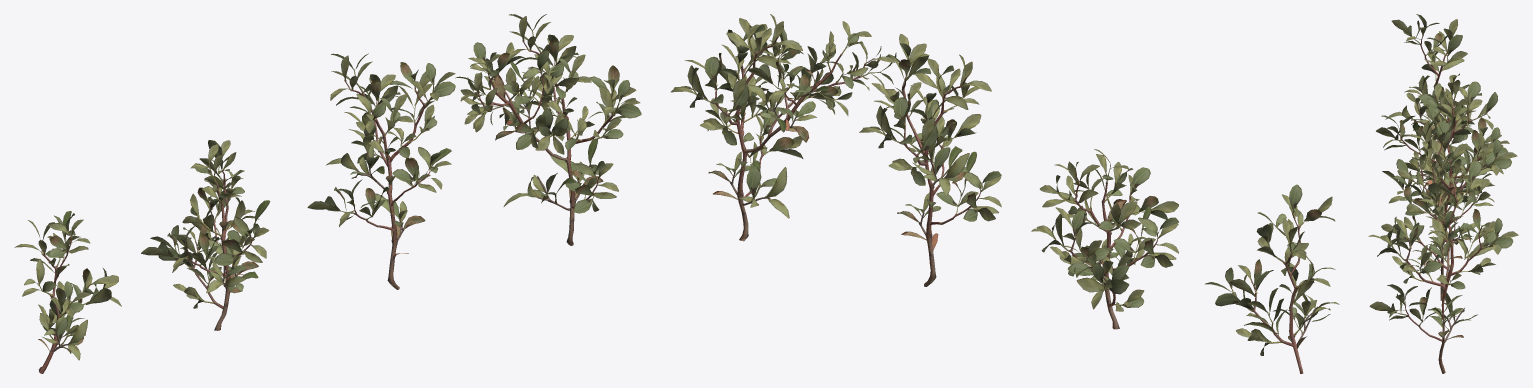
File: shrub_04.glb
The picture shows the model from 3 angles, left to right: view 1: azimuth 30°, elevation 25°; view 2: azimuth 150°, elevation 25°; view 3: azimuth 270°, elevation 25°; orthographic projection. The views are drawn at different scales.
Parts seen in each view (by area): view 1: shrub_04; view 2: shrub_04; view 3: shrub_04.
Boxes of the visible parts, x1=… form: shrub_04: x1=14, y1=14, x2=641, y2=373; shrub_04: x1=671, y1=14, x2=1339, y2=373; shrub_04: x1=1368, y1=14, x2=1518, y2=373.
Bounding box in the file's own units: 0.5837 × 0.2192 × 0.1461.
Materials: 1 (1 with a texture image).
